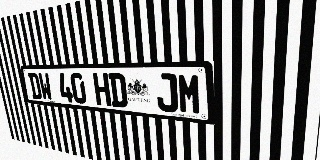0: (70, 73, 87, 104)
4: (57, 73, 74, 103)
D: (108, 73, 128, 108), (28, 73, 42, 100)
H: (93, 73, 111, 106)
J: (155, 73, 178, 113)
M: (177, 73, 202, 115)
W: (38, 73, 53, 101)
